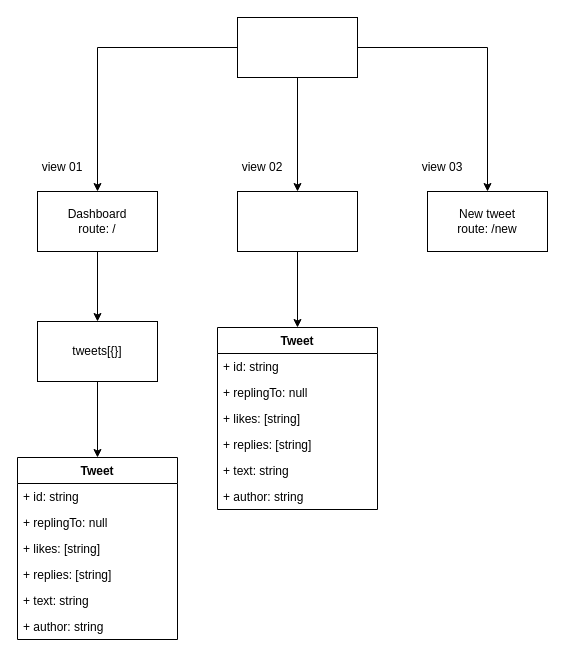
This 565x660 diagram has some shape labels left out. Each missing label, with the box of its shape:
App: (236, 16, 358, 78)
Tweets route: /tweets/:id: (236, 190, 358, 252)
